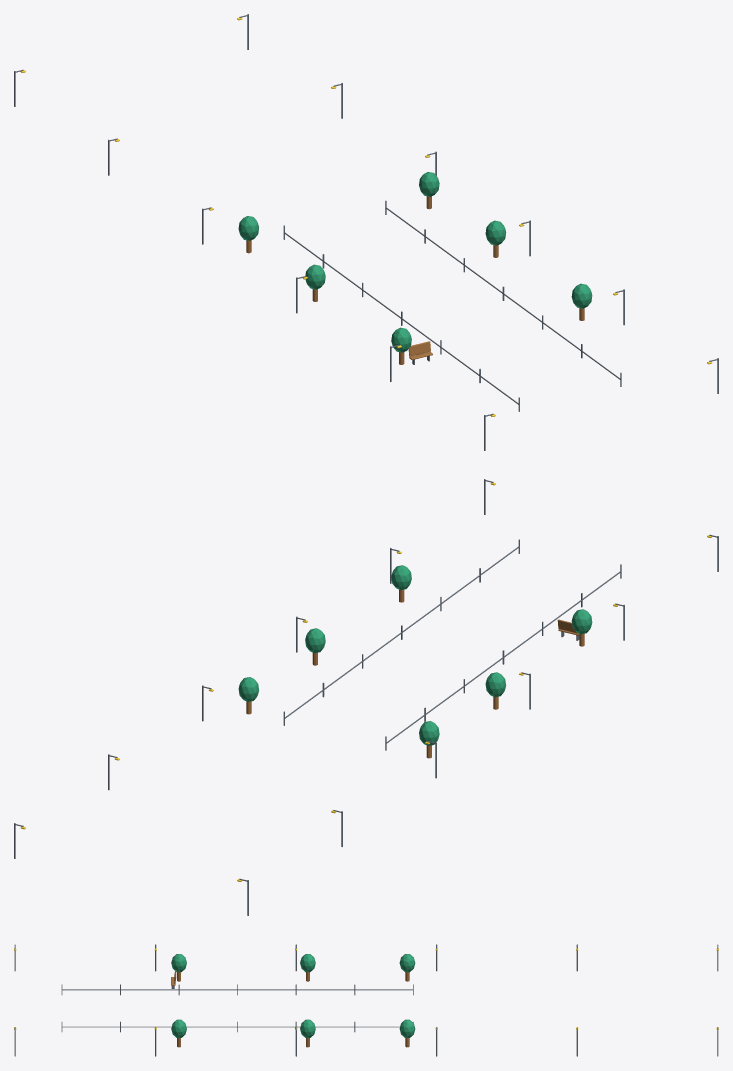
File: 05_STREET_PROPS.fbx
3 renders of one model, top to bottom at view 1: azimuth 30°, elevation 25°; view 2: azimuth 150°, elevation 25°; view 3: azimuth 270°, elevation 25°, orthographic. The views are drawn at different scales.
Parts seen in each view (by area): view 1: no part large enough to name; view 2: no part large enough to name; view 3: Tree_Crown.001, Tree_Crown.004, Tree_Crown.003, Tree_Crown, Tree_Crown.002, Tree_Crown.005.
Part boxes in pixels (x1,y1,x2,y2): Tree_Crown.001: [300, 954, 315, 972]; Tree_Crown.004: [300, 1019, 315, 1037]; Tree_Crown.003: [171, 1019, 186, 1037]; Tree_Crown: [171, 954, 186, 972]; Tree_Crown.002: [399, 954, 415, 972]; Tree_Crown.005: [399, 1019, 415, 1037].
Size of the model in its own units: 34.62 by 5.05 by 120.
